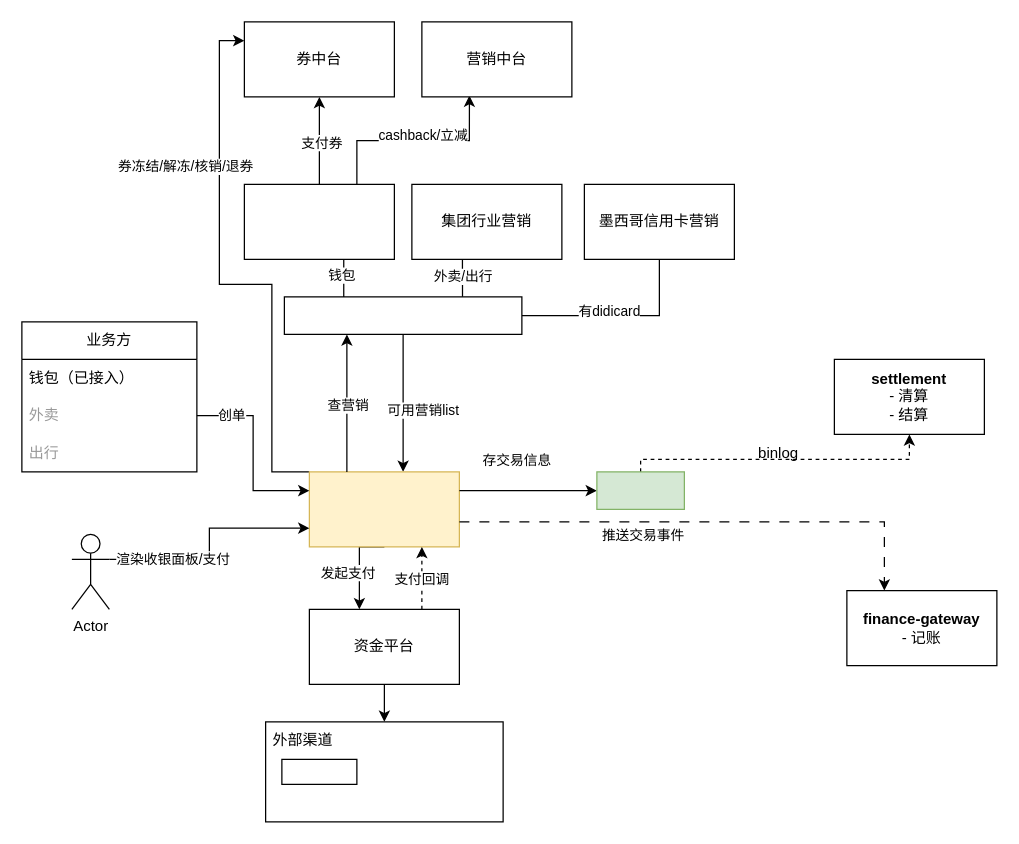
The diagram is 1019 pixels wide and 844 high, and some of its shapes have lost their labels. The shapes that lost their labels are listed below. From the top down, each one's centre as x and y in pixels, then its label:
At point 318,221: "墨西哥行业营销".
At point 402,315: "营销网关（路由和结果组装）".
At point 383,509: "交易中心 wakanda".
At point 640,490: "DB: 交易表".
At point 319,771: "sofi".
